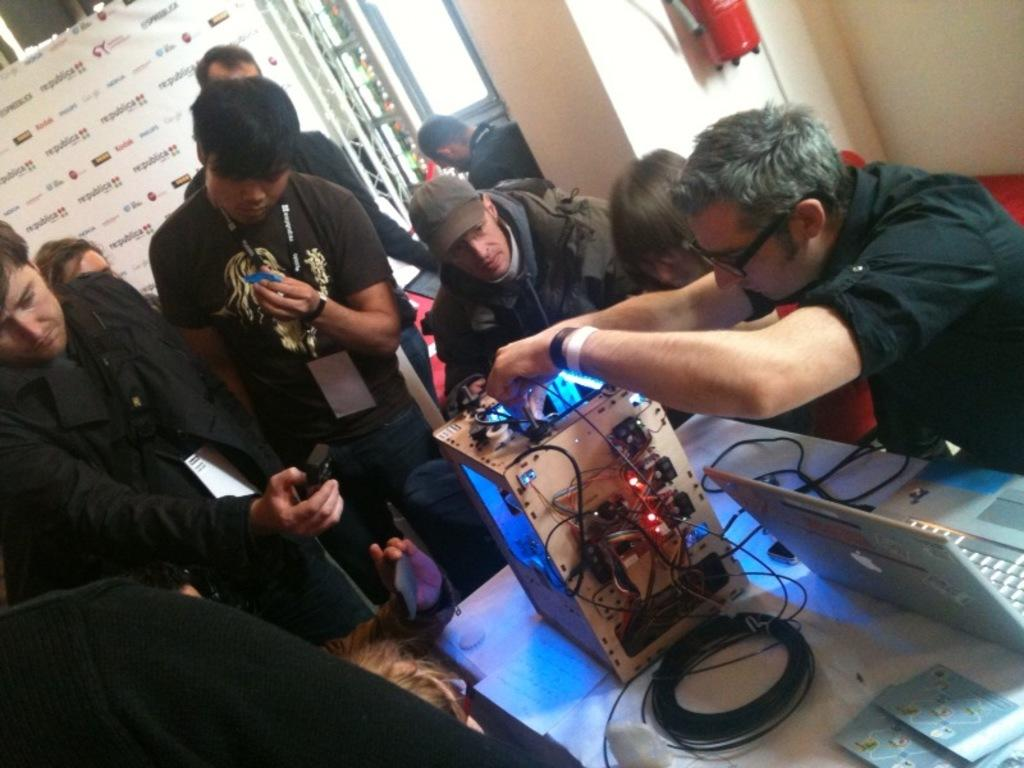Sem Máscara: (690, 203, 810, 310), (0, 264, 63, 350), (207, 170, 285, 224), (448, 224, 506, 274), (73, 243, 111, 269)
